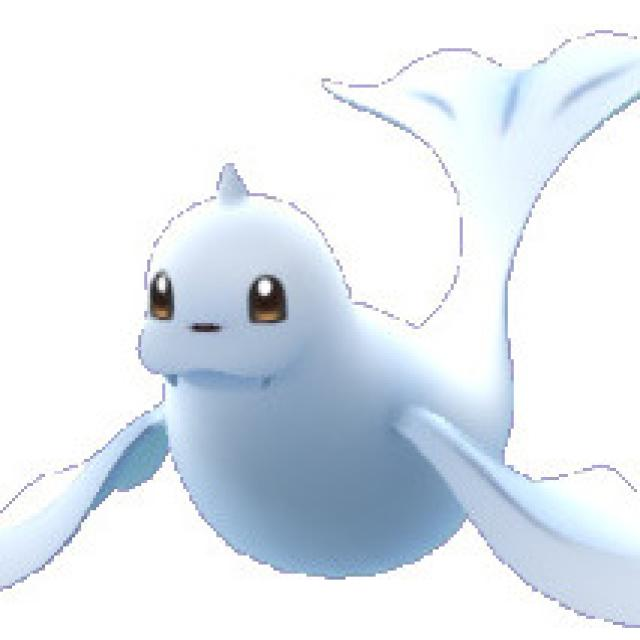Dewgong: (142, 54, 614, 590)
